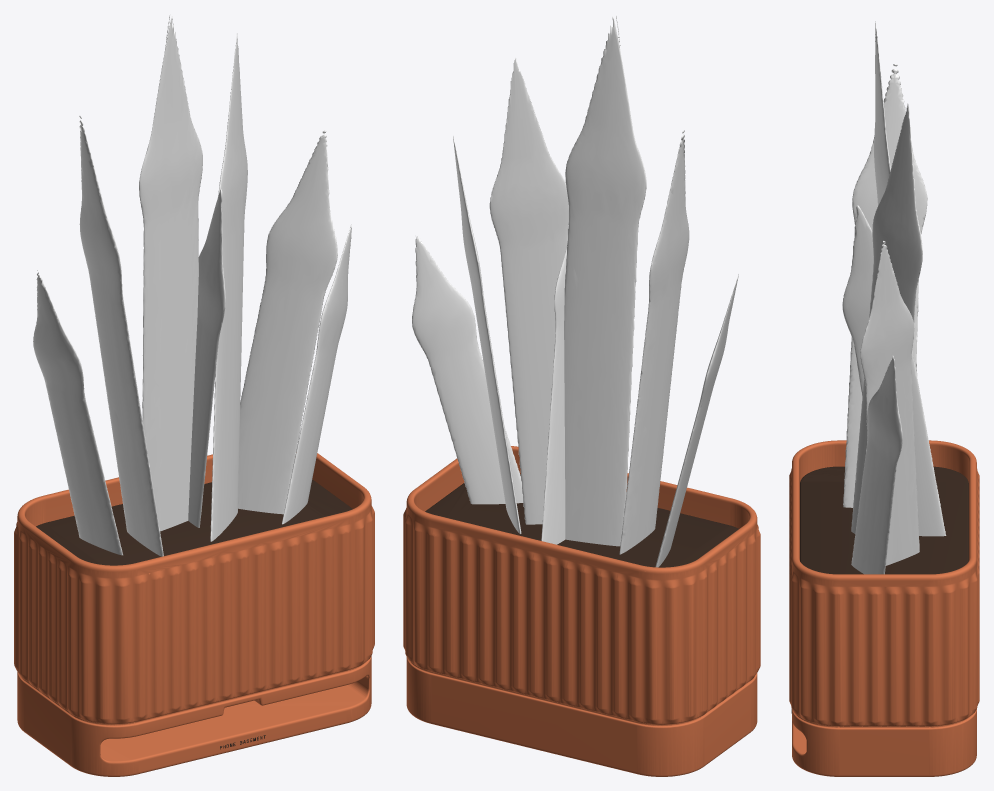
File: greenhouse.glb
3 views of the same model, side by side, from view 1: azimuth 30°, elevation 25°; view 2: azimuth 150°, elevation 25°; view 3: azimuth 270°, elevation 25° (orthographic). The views are drawn at different scales.
Visible parts, largest first — view 1: leaf0, greenhouse-body, greenhouse-soil; view 2: leaf0, greenhouse-body, greenhouse-soil; view 3: greenhouse-body, leaf0, greenhouse-soil.
Part boxes in pixels (x1,y1,x2,y2): leaf0: (33, 14, 351, 556); greenhouse-body: (14, 452, 374, 776); greenhouse-soil: (36, 479, 352, 565); leaf0: (412, 14, 738, 567); greenhouse-body: (403, 446, 760, 776); greenhouse-soil: (425, 474, 738, 567); greenhouse-body: (789, 440, 979, 776); leaf0: (842, 21, 946, 574); greenhouse-soil: (800, 466, 968, 574).
Bounding box in the file's own units: 0.1919 × 0.4065 × 0.1031.
